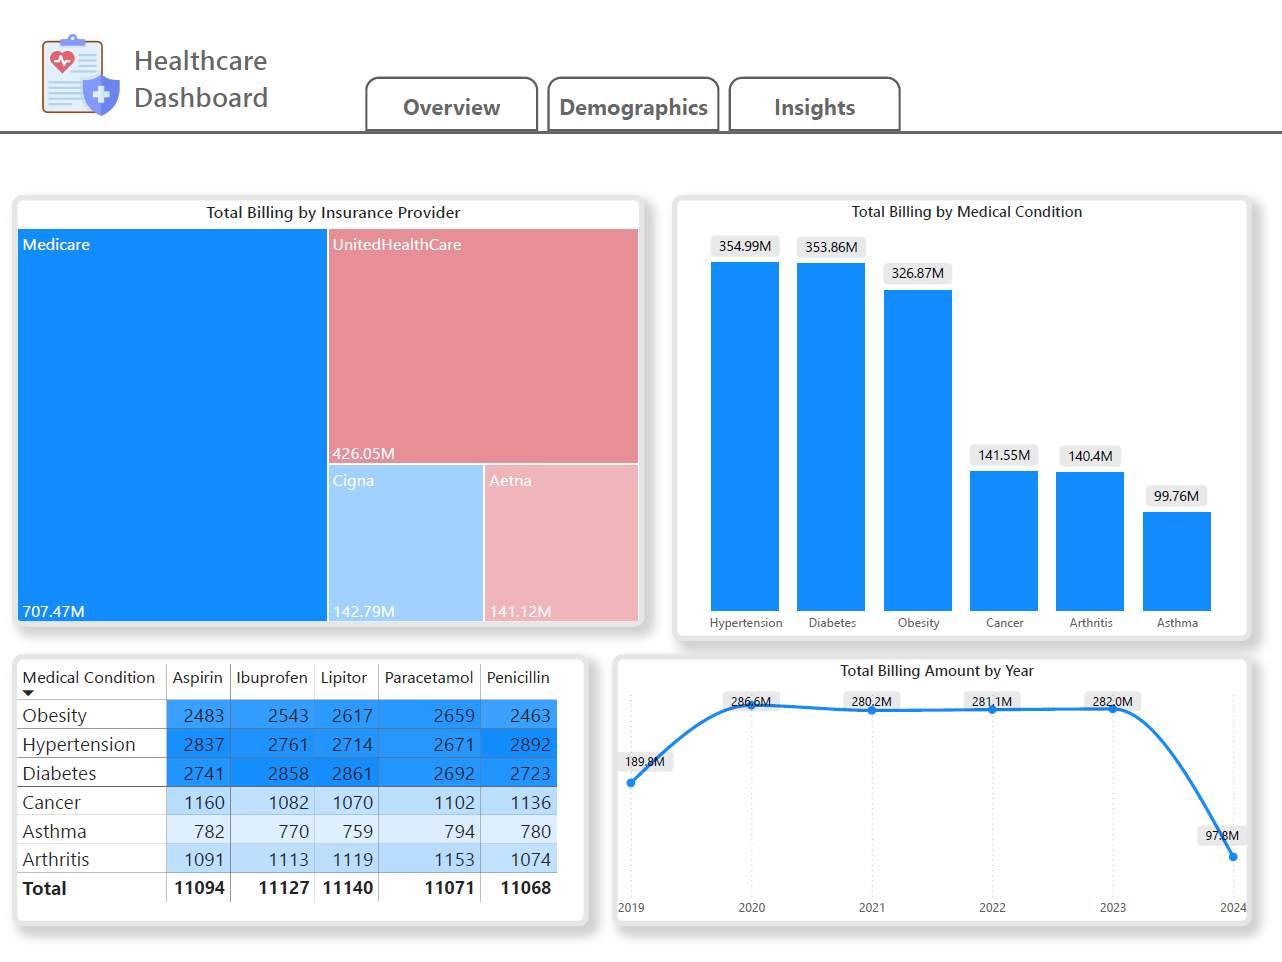

This screenshot's page, from the dashboard's own definition file:
{"tool":"powerbi","page":{"name":"Insights","canvas":[1250,900],"ordinal":2},"visuals":[{"type":"clusteredColumnChart","title":"Total Billing by Medical Condition","fields":{"Y":["Measure.Total Billing Amount"],"Category":["Dim Patient.Medical Condition"]},"box":[654.3,170,562.9,432.9],"z":1000},{"type":"treemap","title":"Total Billing by Insurance Provider","fields":{"Values":["Measure.Total Billing Amount"],"Group":["Dim Patient.Insurance Provider"]},"box":[12.9,170,614.3,418.6],"z":2000},{"type":"textbox","box":[126.2,14.5,230,98.6],"z":3000},{"type":"image","box":[31.5,14.5,94.6,78.9],"z":4000},{"type":"shape","box":[0,94.6,1249.9,28.9],"z":5000},{"type":"actionButton","box":[356.5,54.9,167.7,53.5],"z":6000},{"type":"actionButton","box":[532.6,54.9,167.7,53.5],"z":7000},{"type":"actionButton","box":[708.7,54.9,167.7,53.5],"z":8000},{"type":"lineChart","title":"Total Billing Amount by Year","fields":{"Y":["Measure.Total Billing Amount"],"Category":["DimDate.Year"]},"box":[595.7,615.7,621.4,264.3],"z":10000},{"type":"pivotTable","fields":{"Rows":["Dim Patient.Medical Condition"],"Columns":["Dim Medication.Medication"],"Values":["Measure.Patients"]},"box":[12.9,615.7,560,264.3],"z":11000}]}

Visuals, with their boxes on the page's 1250x900 design canvas (x1, y1, x2, y2). These are canvas units, not pixel positions in the 1282x962 screenshot, which may show the page scaled, cropped or inside an application window:
"Total Billing by Medical Condition" clusteredColumnChart: bbox=(654, 170, 1217, 603)
"Total Billing by Insurance Provider" treemap: bbox=(13, 170, 627, 589)
textbox: bbox=(126, 14, 356, 113)
image: bbox=(32, 14, 126, 93)
shape: bbox=(0, 95, 1250, 124)
actionButton: bbox=(356, 55, 524, 108)
actionButton: bbox=(533, 55, 700, 108)
actionButton: bbox=(709, 55, 876, 108)
"Total Billing Amount by Year" lineChart: bbox=(596, 616, 1217, 880)
pivotTable - Dim Patient.Medical Condition x Dim Medication.Medication: bbox=(13, 616, 573, 880)
